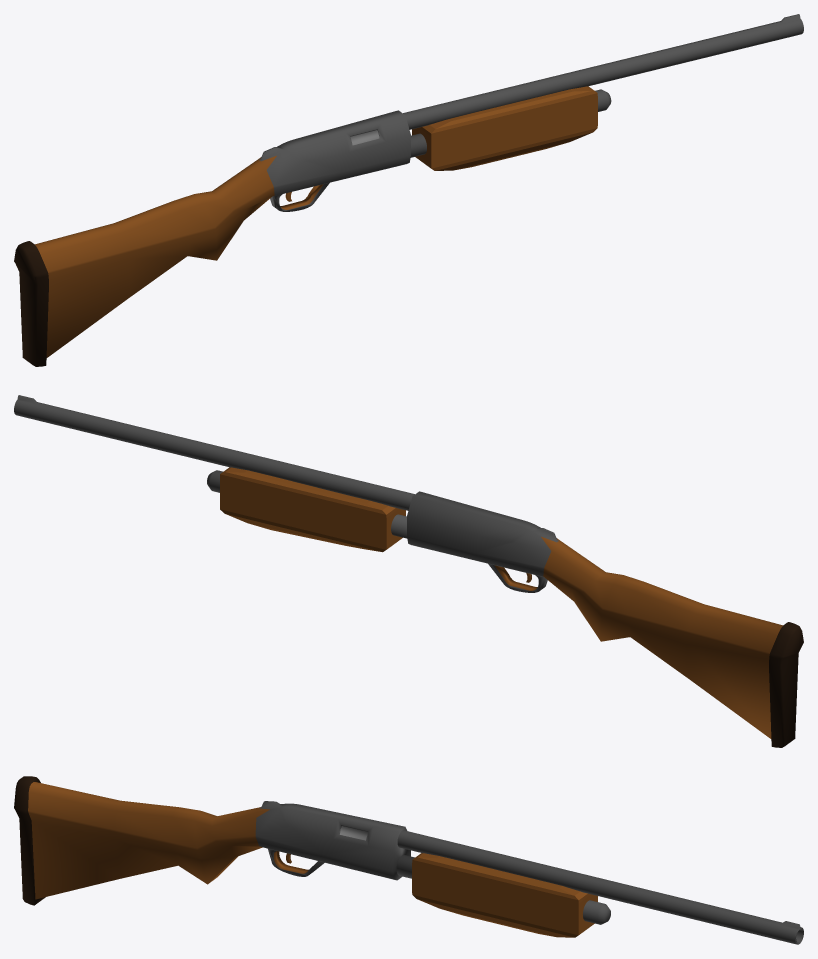
File: 12gShotgun.fbx
3 views of the same model, one above another, from view 1: azimuth 30°, elevation 25°; view 2: azimuth 150°, elevation 25°; view 3: azimuth 330°, elevation 25° (orthographic).
Parts seen in each view (by area): view 1: ShotGun, Handle, Barrel; view 2: ShotGun, Handle, Barrel; view 3: ShotGun, Handle, Barrel, Magizen.
Boxes of the visible parts, bbox=[...] form: ShotGun: bbox=[14, 110, 410, 366]; Handle: bbox=[412, 86, 597, 170]; Barrel: bbox=[403, 14, 803, 129]; ShotGun: bbox=[407, 491, 803, 747]; Handle: bbox=[220, 467, 405, 552]; Barrel: bbox=[14, 395, 414, 510]; ShotGun: bbox=[14, 776, 410, 905]; Handle: bbox=[412, 853, 597, 937]; Barrel: bbox=[397, 830, 803, 944]; Magizen: bbox=[396, 855, 610, 924].
Bounding box in the file's own units: 1001 × 198 × 49.39.
